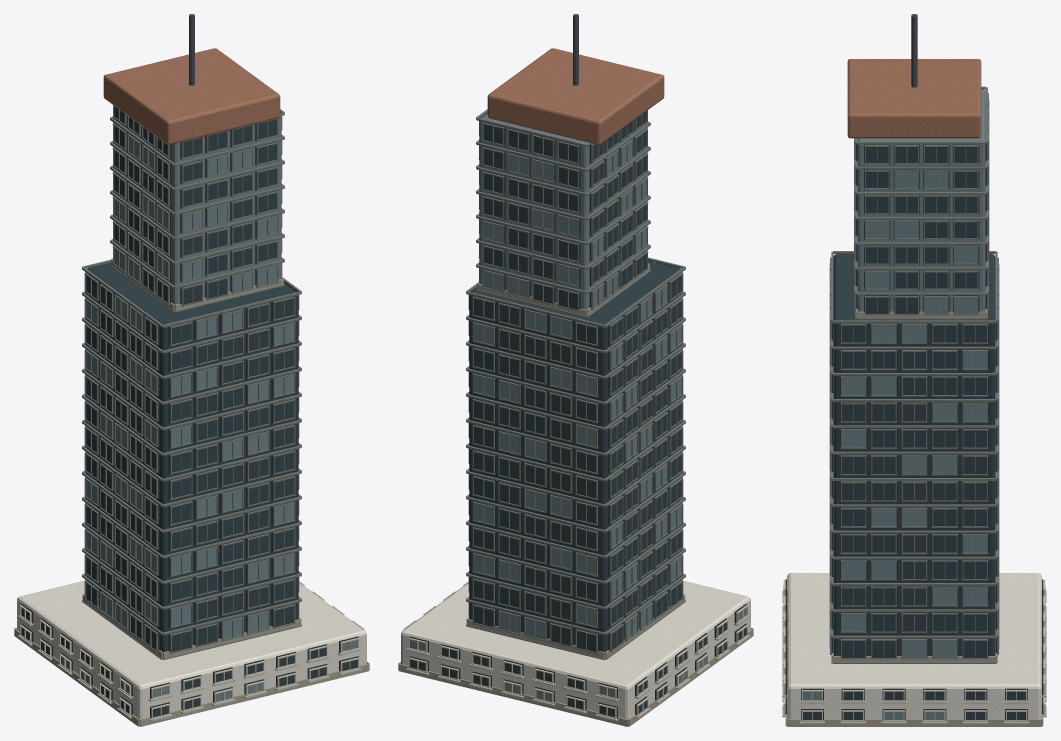
Rendered from RES_TOWER_3x3_002.glb.
3 views of the same model, side by side, from view 1: azimuth 30°, elevation 25°; view 2: azimuth 150°, elevation 25°; view 3: azimuth 270°, elevation 25° (orthographic). The views are drawn at different scales.
Visible parts, largest first — view 1: RES_TOWER_3x3_002_Visual; view 2: RES_TOWER_3x3_002_Visual; view 3: RES_TOWER_3x3_002_Visual.
Boxes of the visible parts, <box> form: RES_TOWER_3x3_002_Visual: <box>14,14,369,726</box>; RES_TOWER_3x3_002_Visual: <box>398,14,753,726</box>; RES_TOWER_3x3_002_Visual: <box>782,14,1046,726</box>.
Size of what is drawn, in the model's own units: 4.71 by 12.12 by 4.44.
10 materials, 5 textured.
